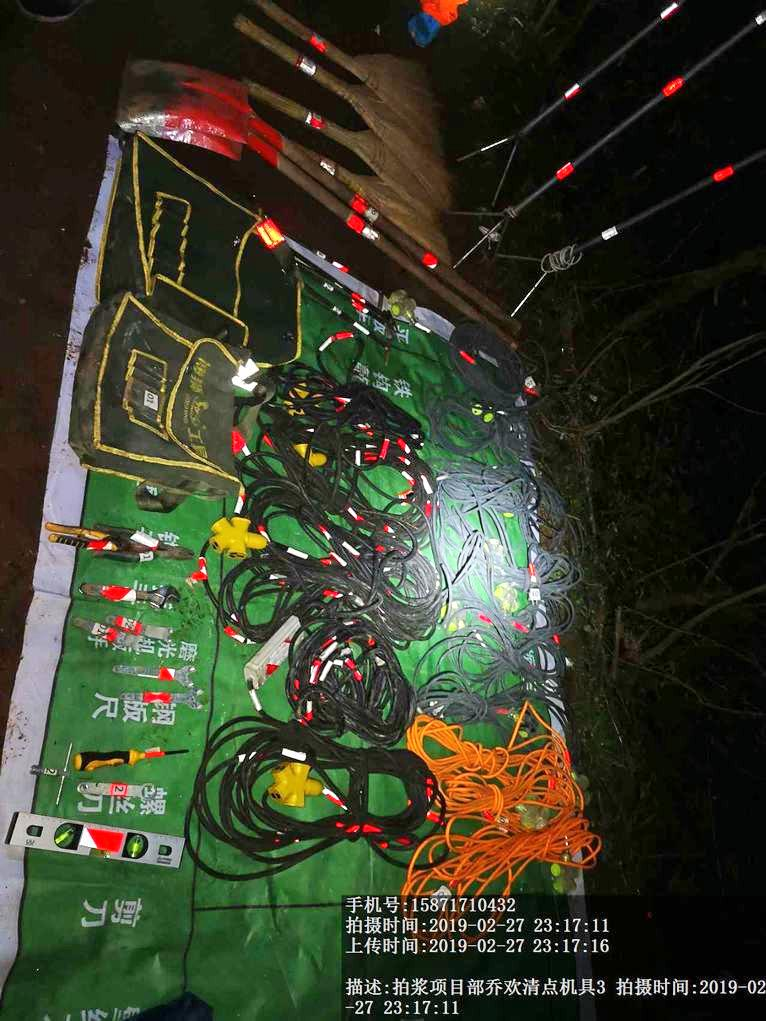DX: (192, 716, 434, 875), (403, 824, 616, 897), (425, 649, 559, 746)
GJB: (105, 130, 308, 359), (73, 291, 242, 506)
SB: (239, 22, 468, 132)
TQ: (107, 59, 423, 260)
